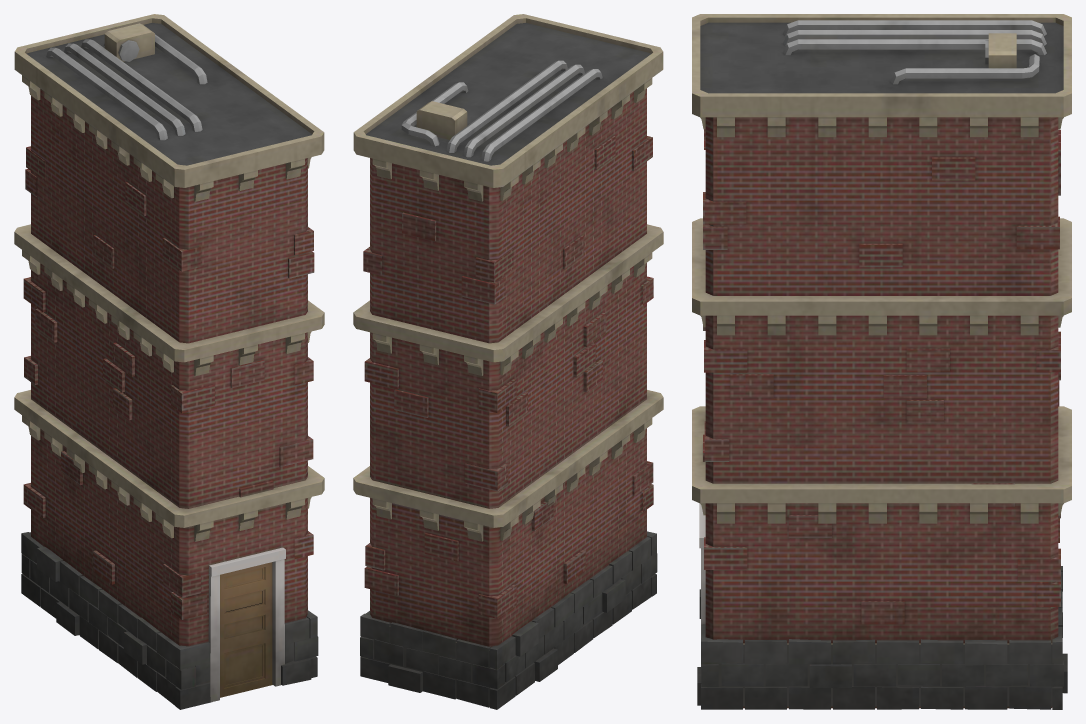
The model's file is 3Story_Slim.glb.
3 views of the same model, side by side, from view 1: azimuth 30°, elevation 25°; view 2: azimuth 150°, elevation 25°; view 3: azimuth 270°, elevation 25° (orthographic). The views are drawn at different scales.
Parts seen in each view (by area): view 1: 3Story_Slim_medium; view 2: 3Story_Slim_medium; view 3: 3Story_Slim_medium.
Boxes of the visible parts, x1,y1,x2,y2 form: 3Story_Slim_medium: (14,14,324,709); 3Story_Slim_medium: (353,14,663,709); 3Story_Slim_medium: (692,14,1071,709).
Bounding box in the file's own units: 1.12 × 3.99 × 2.15.
1 material, 1 textured.
